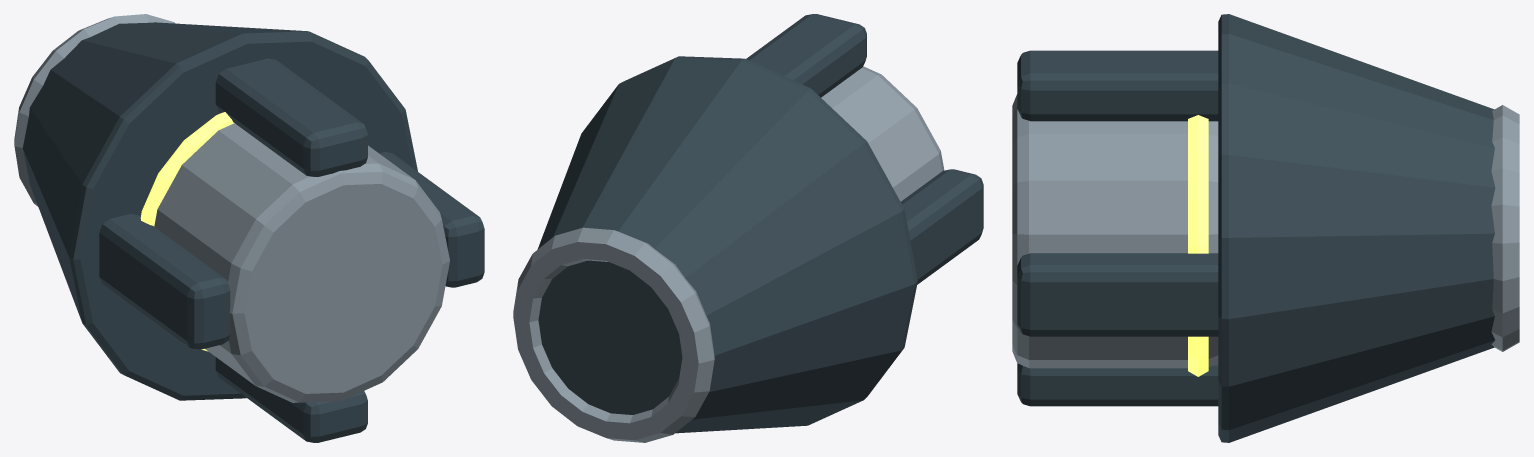
Rendered from ThrusterLarge.fbx.
3 renders of one model, left to right at view 1: azimuth 30°, elevation 25°; view 2: azimuth 150°, elevation 25°; view 3: azimuth 270°, elevation 25°, orthographic. The views are drawn at different scales.
Visible parts, largest first — view 1: ThrusterLarge_Body, ThrusterLarge_Nozzle, ThrusterLarge_Fin.001, ThrusterLarge_Fin.002, ThrusterLarge_Fin.003, ThrusterLarge_Fin, ThrusterLarge_MountRing, ThrusterLarge_GlowRing; view 2: ThrusterLarge_Nozzle, ThrusterLarge_MountRing, ThrusterLarge_Body, ThrusterLarge_Fin.001, ThrusterLarge_Fin.002; view 3: ThrusterLarge_Nozzle, ThrusterLarge_Body, ThrusterLarge_Fin, ThrusterLarge_Fin.002, ThrusterLarge_Fin.003, ThrusterLarge_MountRing, ThrusterLarge_GlowRing.
Part boxes in pixels (x1,y1,x2,y2): ThrusterLarge_Body: (154,123,449,402); ThrusterLarge_Nozzle: (22,22,417,400); ThrusterLarge_Fin.001: (99,214,230,349); ThrusterLarge_Fin.002: (215,58,367,176); ThrusterLarge_Fin.003: (215,357,367,442); ThrusterLarge_Fin: (379,152,484,287); ThrusterLarge_MountRing: (14,14,175,206); ThrusterLarge_GlowRing: (140,112,234,351); ThrusterLarge_Nozzle: (537,56,917,433); ThrusterLarge_MountRing: (513,227,714,442); ThrusterLarge_Body: (821,66,944,201); ThrusterLarge_Fin.001: (901,169,983,284); ThrusterLarge_Fin.002: (746,14,866,97); ThrusterLarge_Nozzle: (1218,14,1495,442); ThrusterLarge_Body: (1012,94,1218,368); ThrusterLarge_Fin: (1017,253,1218,336); ThrusterLarge_Fin.002: (1017,50,1218,121); ThrusterLarge_Fin.003: (1017,363,1218,406); ThrusterLarge_MountRing: (1491,105,1519,351); ThrusterLarge_GlowRing: (1188,115,1208,376).
Bounding box in the file's own units: 1.18 × 1.18 × 1.39.
